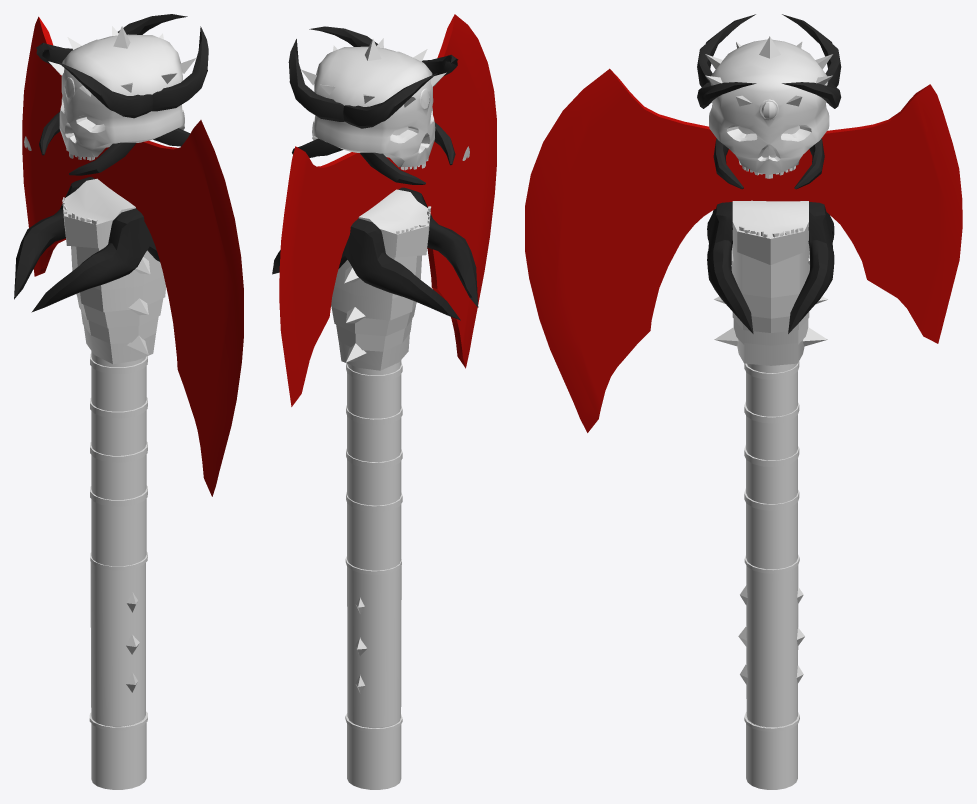
The model's file is argent axe.fbx.
3 views of the same model, side by side, from view 1: azimuth 30°, elevation 25°; view 2: azimuth 150°, elevation 25°; view 3: azimuth 270°, elevation 25° (orthographic).
Parts seen in each view (by area): view 1: blade, da ding, da skulll, handle, jaw und, jaw horns, da skull horns, jaw, handle rings, spike up, handle rings.001, skull spike (+1 smaller); view 2: blade, da ding, da skulll, handle, jaw horns, jaw und, da skull horns, jaw, handle rings, spike up, handle rings.001, skull spike; view 3: blade, da ding, da skulll, handle, jaw und, jaw horns, da skull horns, jaw, handle rings.
Boxes of the visible parts, left/top/right/bottom form: blade: left=22, top=16, right=243, bottom=496; da ding: left=91, top=351, right=146, bottom=789; da skulll: left=59, top=34, right=184, bottom=157; handle: left=90, top=562, right=145, bottom=726; jaw und: left=71, top=246, right=165, bottom=364; jaw horns: left=14, top=177, right=159, bottom=312; da skull horns: left=36, top=14, right=208, bottom=175; jaw: left=62, top=178, right=135, bottom=248; handle rings: left=90, top=353, right=147, bottom=506; spike up: left=127, top=257, right=150, bottom=355; handle rings.001: left=89, top=551, right=147, bottom=730; skull spike: left=48, top=26, right=195, bottom=96; blade: left=279, top=14, right=496, bottom=406; da ding: left=347, top=360, right=401, bottom=789; da skulll: left=312, top=46, right=435, bottom=167; handle: left=347, top=565, right=401, bottom=728; jaw horns: left=272, top=187, right=478, bottom=320; jaw und: left=331, top=255, right=421, bottom=370; da skull horns: left=288, top=26, right=458, bottom=184; jaw: left=358, top=189, right=430, bottom=257; handle rings: left=346, top=362, right=402, bottom=512; spike up: left=344, top=266, right=366, bottom=362; handle rings.001: left=345, top=556, right=402, bottom=732; skull spike: left=301, top=38, right=446, bottom=107; blade: left=525, top=68, right=962, bottom=432; da ding: left=746, top=363, right=797, bottom=789; da skulll: left=709, top=39, right=829, bottom=174; handle: left=746, top=565, right=798, bottom=727; jaw und: left=731, top=242, right=809, bottom=365; jaw horns: left=707, top=202, right=834, bottom=333; da skull horns: left=697, top=14, right=841, bottom=189; jaw: left=732, top=200, right=808, bottom=264; handle rings: left=744, top=361, right=799, bottom=510.
Bounding box in the file's own units: 25.23 × 94.25 × 50.29.
